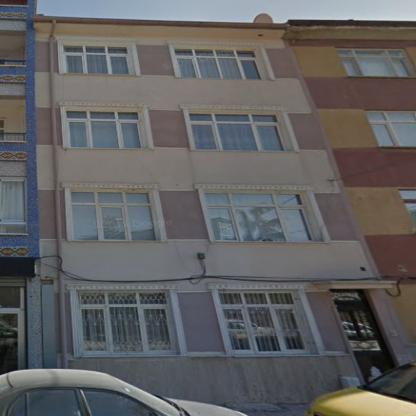door: (330, 291, 395, 384)
window: (78, 290, 174, 351), (205, 192, 314, 242), (219, 293, 309, 352), (68, 192, 156, 240), (188, 113, 285, 151), (65, 110, 143, 148), (174, 49, 263, 79), (335, 49, 413, 78), (61, 45, 131, 74), (0, 285, 22, 375), (366, 112, 416, 146), (1, 181, 27, 233), (398, 189, 414, 230)
